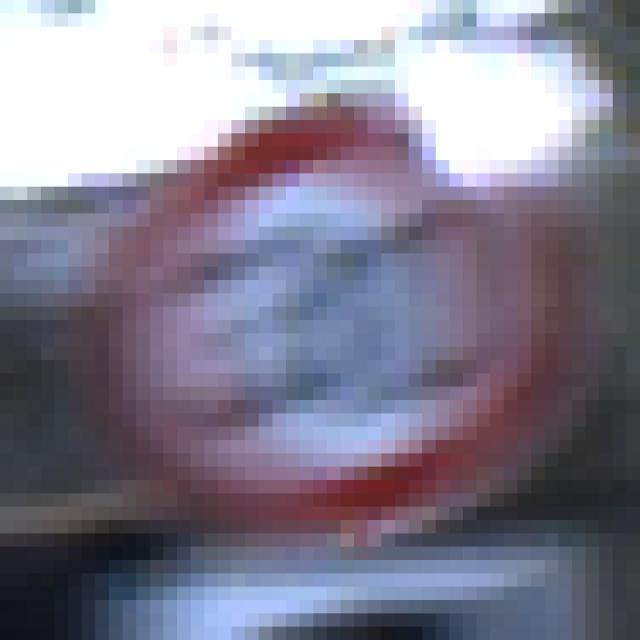Speed Limit -30-: (61, 60, 565, 567)
